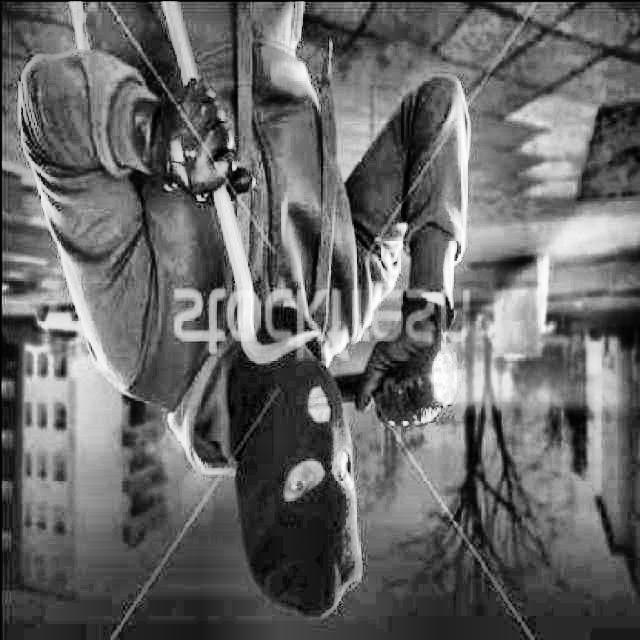robbery: (7, 0, 504, 630)
